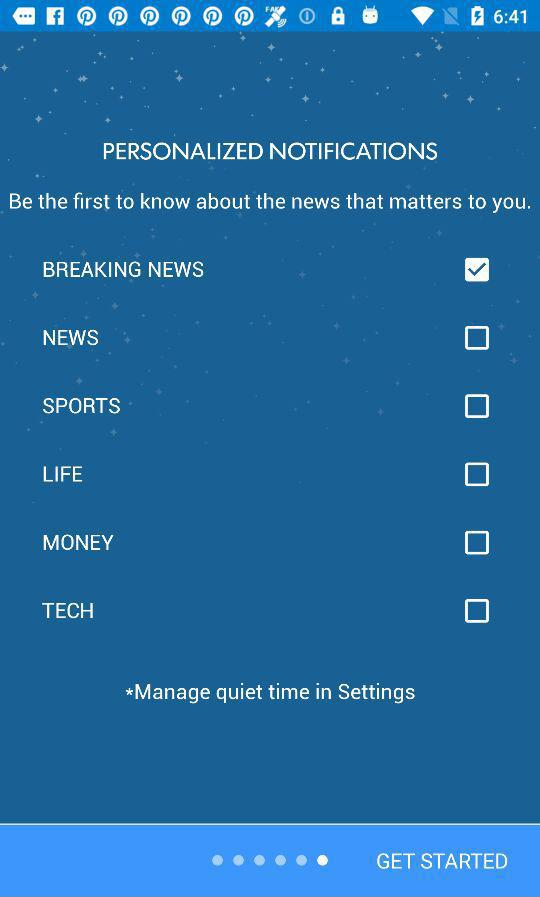CheckedTextView: (42, 598, 490, 624), (43, 258, 490, 284), (43, 325, 490, 351), (43, 461, 490, 487), (43, 530, 490, 556), (43, 394, 490, 419)
PageIndicator: (212, 854, 330, 867)
Text: (10, 192, 531, 215), (104, 142, 439, 162), (126, 682, 416, 705), (43, 262, 205, 279), (376, 851, 508, 870), (43, 397, 122, 416), (43, 533, 115, 551), (43, 329, 100, 347), (42, 602, 95, 620), (43, 465, 84, 484)
UpperTaskBar: (1, 1, 540, 33)
